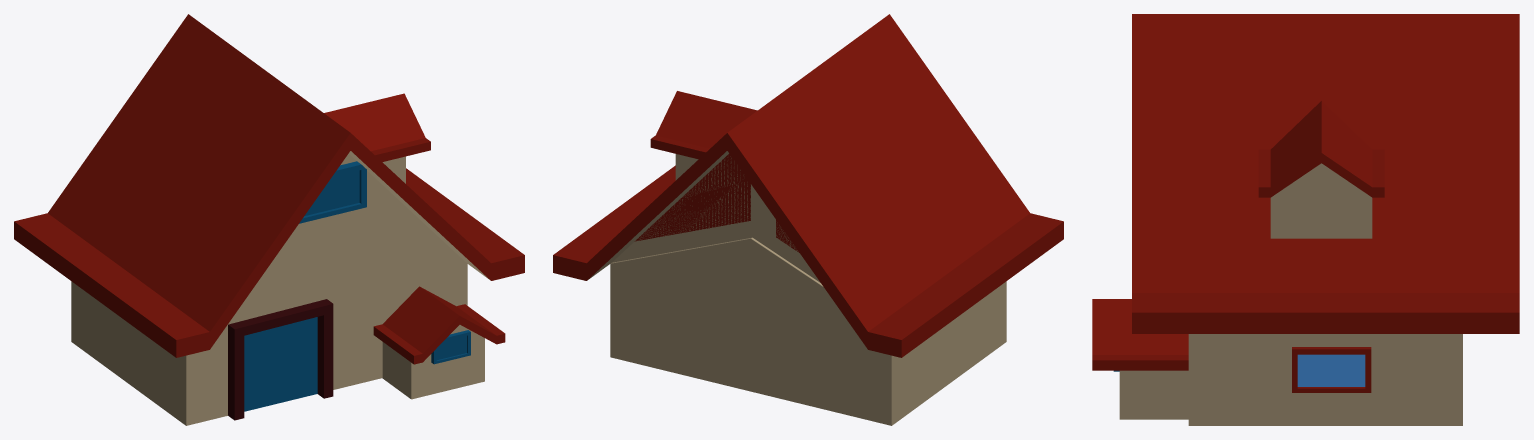
The model's file is house3.fbx.
3 views of the same model, side by side, from view 1: azimuth 30°, elevation 25°; view 2: azimuth 150°, elevation 25°; view 3: azimuth 270°, elevation 25° (orthographic). The views are drawn at different scales.
Parts seen in each view (by area): view 1: Cube.023, Cube.024, Cube.025, Cube.026, Cube.027; view 2: Cube.023, Cube.025; view 3: Cube.023, Cube.025, Cube.024, Cube.012.
Part boxes in pixels (x1,y1,x2,y2): Cube.023: [14, 14, 524, 425]; Cube.024: [373, 286, 505, 399]; Cube.025: [324, 93, 430, 183]; Cube.026: [299, 161, 366, 223]; Cube.027: [431, 330, 470, 364]; Cube.023: [553, 14, 1063, 425]; Cube.025: [650, 91, 757, 180]; Cube.023: [1132, 14, 1519, 425]; Cube.025: [1258, 101, 1384, 238]; Cube.024: [1092, 299, 1188, 419]; Cube.012: [1292, 347, 1371, 392].
Bounding box in the file's own units: 8980 × 6808 × 7983.
